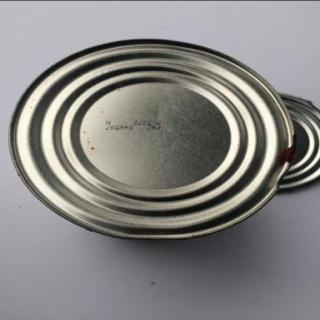Anorganik: (10, 35, 298, 244)
